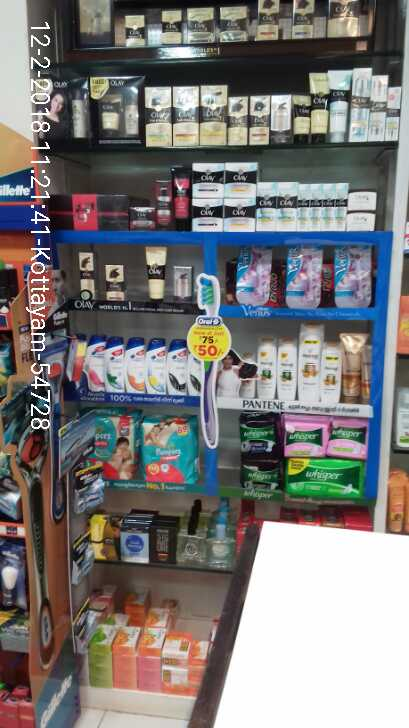venus: (287, 245, 323, 308), (335, 246, 369, 310), (235, 246, 270, 302)
